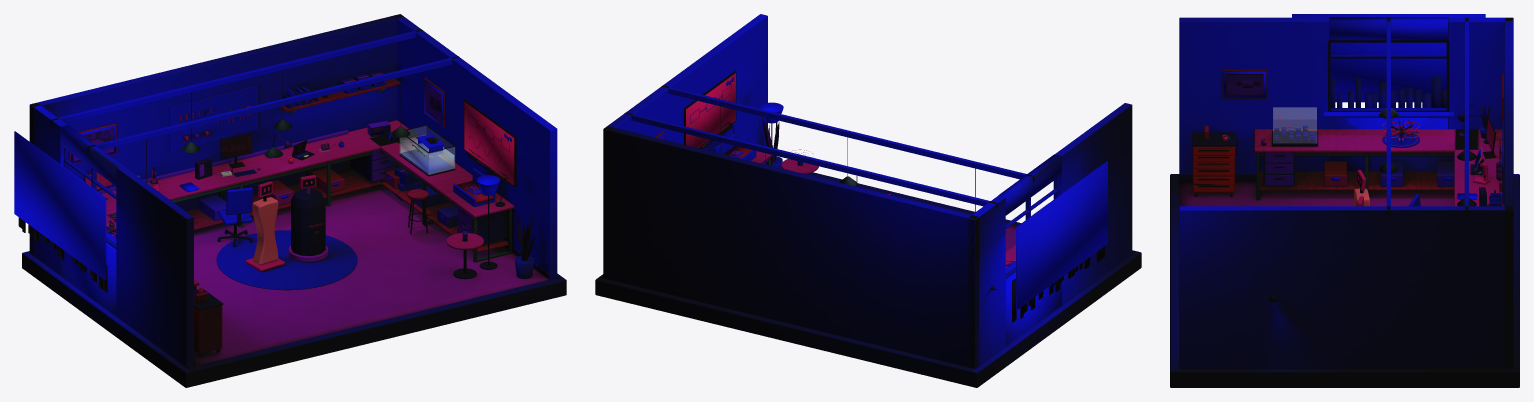
The model's file is lab.glb.
3 views of the same model, side by side, from view 1: azimuth 30°, elevation 25°; view 2: azimuth 150°, elevation 25°; view 3: azimuth 270°, elevation 25° (orthographic). The views are drawn at different scales.
Visible parts, largest first — view 1: room_static, furniture_static, ne_static, sa_static, or_static, wb_water, wb_static, ss_static, wb_tank_glass, wb_tank_glass.003; view 2: room_static, furniture_static, sa_static; view 3: room_static, furniture_static, sw_glass, sw_static, sw_glass.001, tz_static, sw_glass_top, ba_static, ba_drone_mesh.
Part boxes in pixels (x1=…): room_static: x1=14, y1=14, x2=566, y2=387; furniture_static: x1=50, y1=30, x2=536, y2=356; ne_static: x1=245, y1=187, x2=328, y2=271; sa_static: x1=446, y1=175, x2=500, y2=279; or_static: x1=195, y1=134, x2=260, y2=179; wb_water: x1=400, y1=134, x2=454, y2=174; wb_static: x1=399, y1=124, x2=455, y2=176; ss_static: x1=453, y1=168, x2=495, y2=206; wb_tank_glass: x1=400, y1=137, x2=427, y2=173; wb_tank_glass.003: x1=429, y1=147, x2=454, y2=174; room_static: x1=595, y1=14, x2=1141, y2=387; furniture_static: x1=624, y1=71, x2=1034, y2=290; sa_static: x1=760, y1=102, x2=818, y2=173; room_static: x1=1170, y1=14, x2=1519, y2=387; furniture_static: x1=1192, y1=21, x2=1504, y2=301; sw_glass: x1=1273, y1=120, x2=1316, y2=142; sw_static: x1=1272, y1=125, x2=1317, y2=146; sw_glass.001: x1=1274, y1=108, x2=1315, y2=130; tz_static: x1=1470, y1=118, x2=1495, y2=184; sw_glass_top: x1=1273, y1=108, x2=1316, y2=118; ba_static: x1=1382, y1=133, x2=1419, y2=147; ba_drone_mesh: x1=1382, y1=115, x2=1419, y2=144.
Size of the model in its own units: 8.01 by 3.09 by 5.6.
15 materials, 11 textured.
